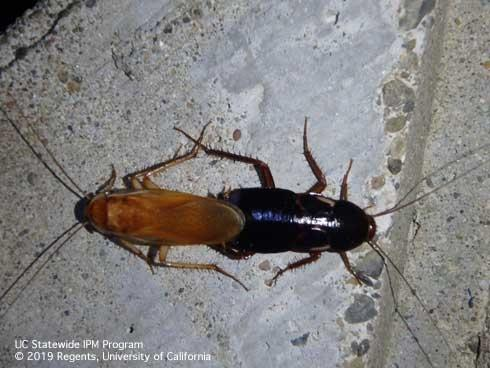cockroach: (215, 180, 378, 260), (79, 182, 246, 254)
